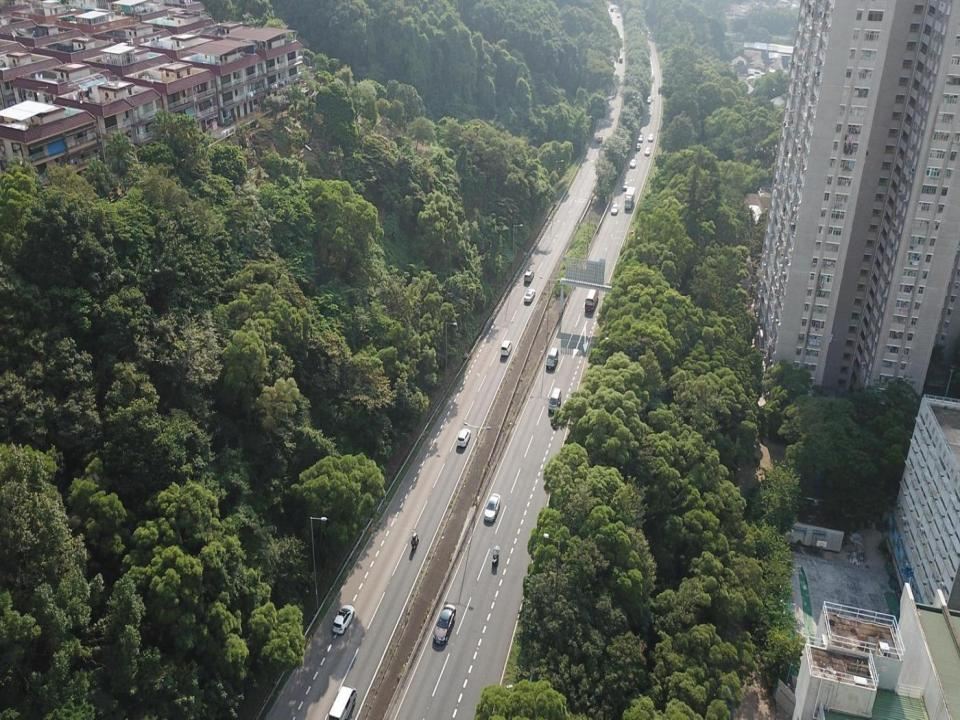bus: (584, 284, 600, 312)
car: (432, 603, 457, 646), (331, 603, 355, 636), (483, 492, 501, 523), (546, 386, 562, 416), (455, 426, 472, 448), (545, 346, 559, 371), (499, 338, 513, 357), (523, 287, 536, 304), (523, 269, 535, 284), (610, 202, 619, 216), (643, 146, 651, 157), (622, 180, 629, 192), (629, 158, 636, 169), (647, 132, 654, 142), (634, 142, 641, 152), (596, 134, 603, 144), (645, 94, 652, 104), (636, 134, 644, 142)
truck: (623, 186, 636, 210)
van: (328, 684, 357, 719)
